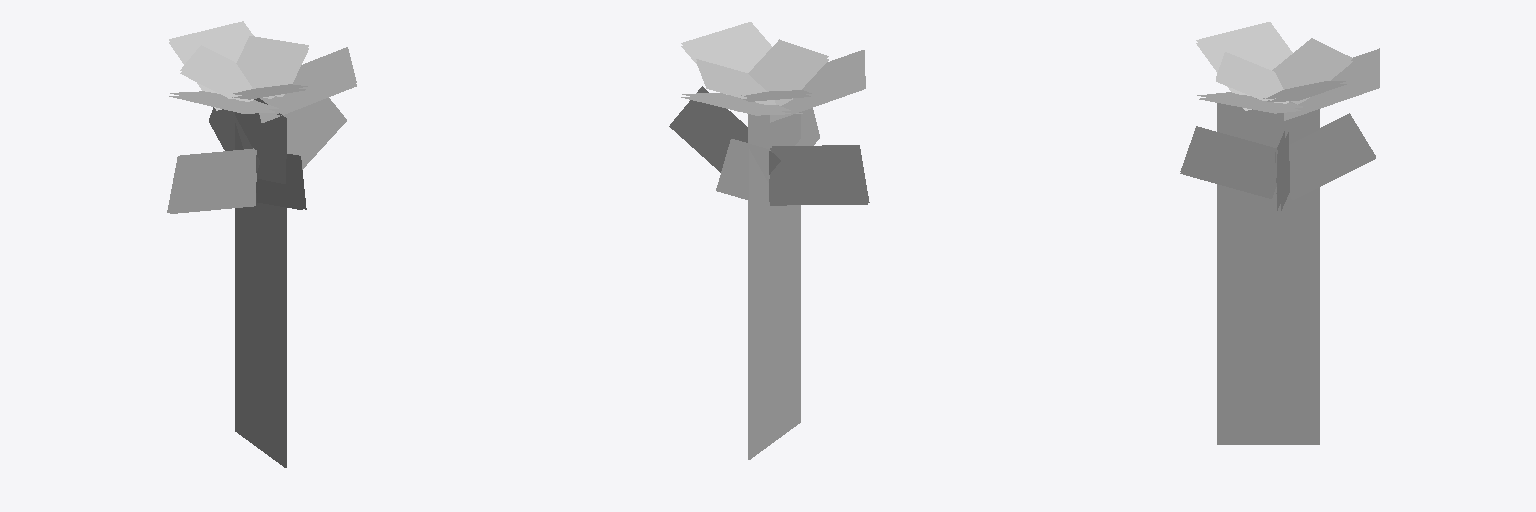
File: flower2.obj
The picture shows the model from 3 angles: view 1: azimuth 30°, elevation 25°; view 2: azimuth 150°, elevation 25°; view 3: azimuth 270°, elevation 25°; orthographic projection.
Parts seen in each view (by area): view 1: flower3_Plane.014; view 2: flower3_Plane.014; view 3: flower3_Plane.014.
Part boxes in pixels (x1,y1,x2,y2): flower3_Plane.014: (167,21,356,467); flower3_Plane.014: (669,22,869,459); flower3_Plane.014: (1180,22,1379,444).
Size of the model in its own units: 3.09 by 5.91 by 2.82.